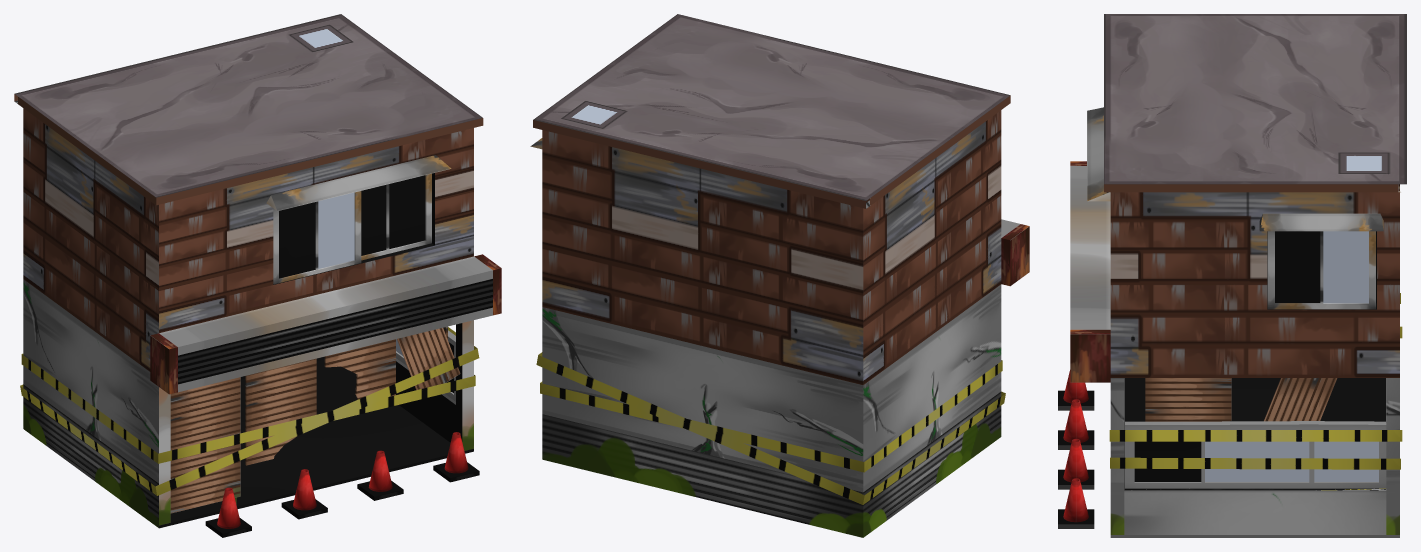
Rendered from House3.fbx.
3 views of the same model, side by side, from view 1: azimuth 30°, elevation 25°; view 2: azimuth 150°, elevation 25°; view 3: azimuth 270°, elevation 25° (orthographic). The views are drawn at different scales.
Visible parts, largest first — view 1: HouseNoAccess; view 2: HouseNoAccess; view 3: HouseNoAccess.
Part boxes in pixels (bbox=[...]): HouseNoAccess: bbox=[14, 14, 501, 537]; HouseNoAccess: bbox=[530, 14, 1029, 537]; HouseNoAccess: bbox=[1058, 14, 1406, 537].
Size of the model in its own units: 730 by 681 by 602.
